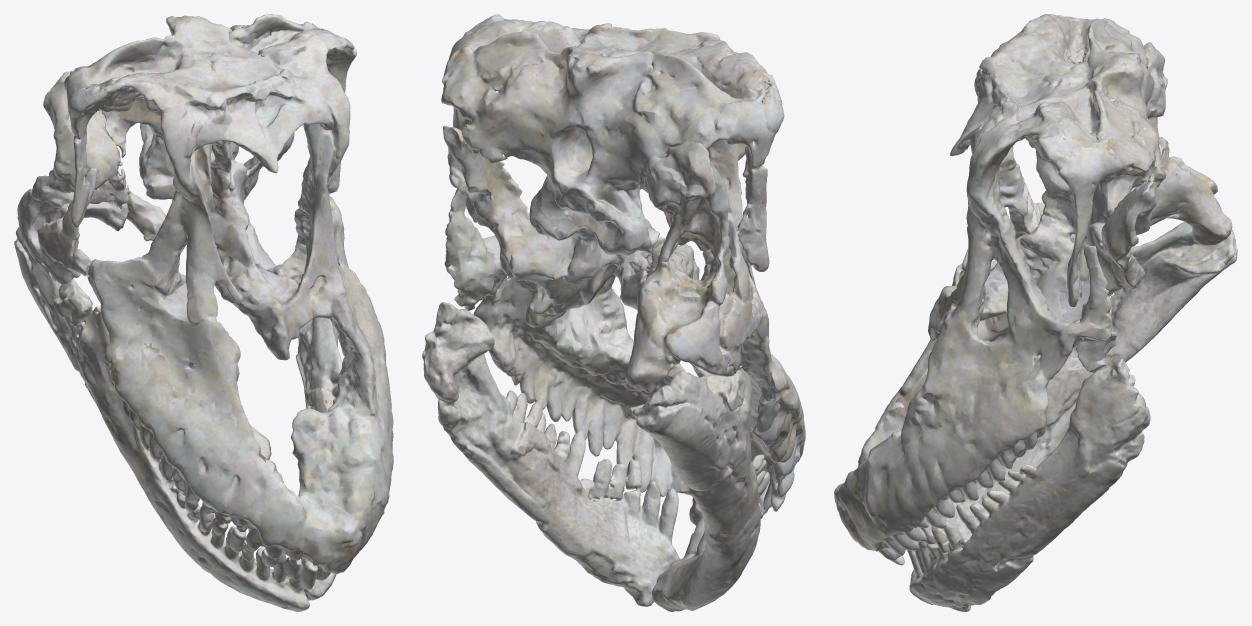
The picture shows the model from 3 angles, left to right: view 1: azimuth 30°, elevation 25°; view 2: azimuth 150°, elevation 25°; view 3: azimuth 270°, elevation 25°; orthographic projection. The views are drawn at different scales.
Visible parts, largest first — view 1: pasted__pasted__Skull, pasted__pasted__Mandible_right, pasted__pasted__Mandible___left; view 2: pasted__pasted__Skull, pasted__pasted__Mandible___left, pasted__pasted__Mandible_right; view 3: pasted__pasted__Skull, pasted__pasted__Mandible___left, pasted__pasted__Mandible_right.
Boxes of the visible parts, x1,y1,x2,y2 form: pasted__pasted__Skull: (17,14,393,589); pasted__pasted__Mandible_right: (14,227,309,611); pasted__pasted__Mandible___left: (296,317,342,600); pasted__pasted__Skull: (441,14,805,525); pasted__pasted__Mandible___left: (422,302,680,606); pasted__pasted__Mandible_right: (625,365,769,611); pasted__pasted__Skull: (834,14,1232,565); pasted__pasted__Mandible___left: (910,358,1150,611); pasted__pasted__Mandible_right: (907,222,1237,604).
Size of the model in its own units: 2.44 by 4.46 by 3.01.
